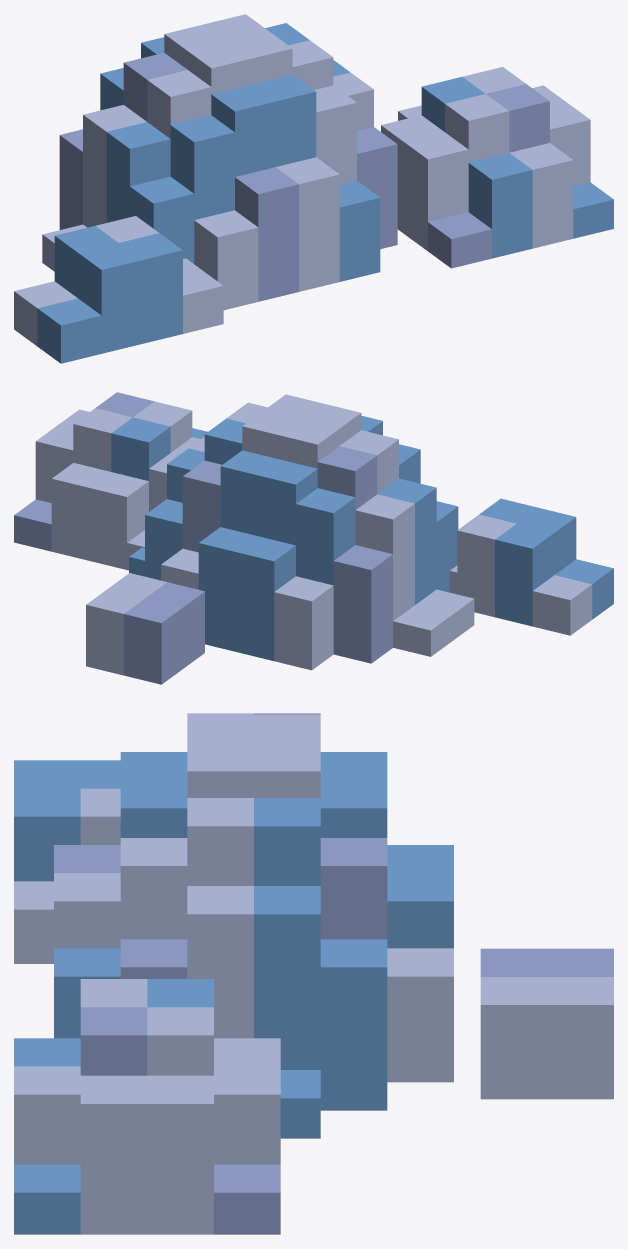
File: IceBeachBoulders.glb
3 views of the same model, one above another, from view 1: azimuth 30°, elevation 25°; view 2: azimuth 150°, elevation 25°; view 3: azimuth 270°, elevation 25° (orthographic). The views are drawn at different scales.
Parts seen in each view (by area): view 1: IceBeachBoulders; view 2: IceBeachBoulders; view 3: IceBeachBoulders.
Part boxes in pixels (x1=…): IceBeachBoulders: x1=14, y1=14, x2=613, y2=363; IceBeachBoulders: x1=14, y1=392, x2=613, y2=684; IceBeachBoulders: x1=14, y1=713, x2=613, y2=1234.
Bounding box in the file's own units: 13.6 × 4.68 × 9.
Materials: 1 (1 with a texture image).
